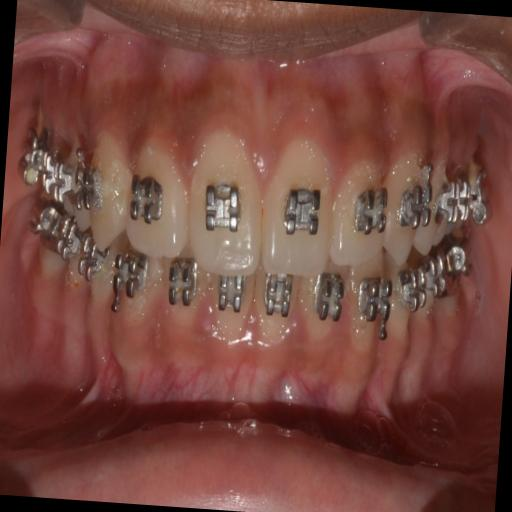correct_brace: (199, 170, 250, 243), (279, 173, 329, 245), (127, 168, 168, 234), (396, 176, 434, 241), (70, 152, 105, 222), (351, 177, 388, 242)
incorrect_brace: (123, 137, 190, 272), (324, 158, 394, 276)
